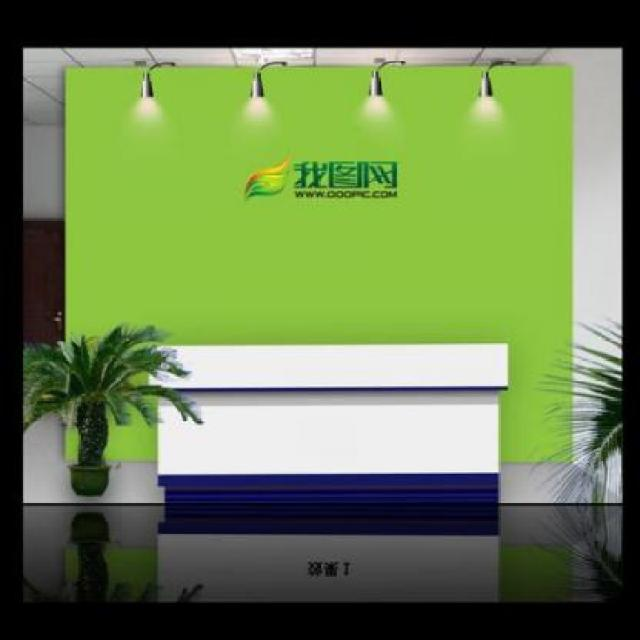frontdesk: (142, 334, 513, 515)
